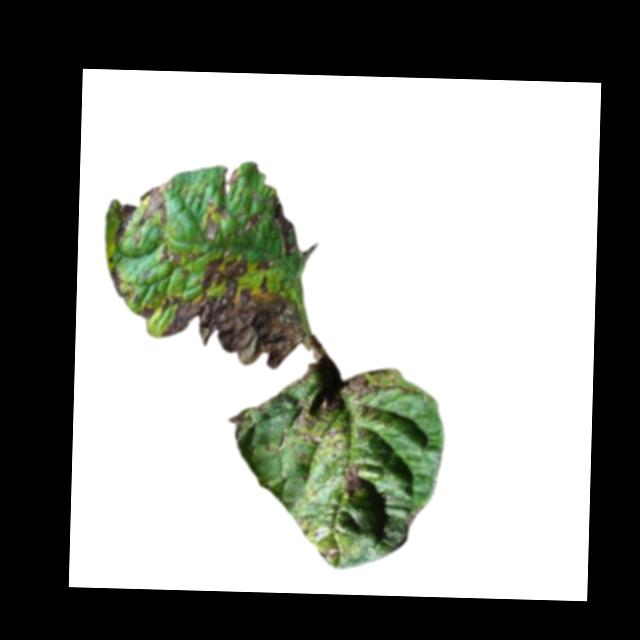Early_blight: (155, 249, 305, 371), (288, 369, 410, 452), (267, 193, 320, 257), (138, 182, 170, 232), (110, 203, 136, 246), (235, 208, 263, 238), (343, 463, 367, 498), (217, 165, 241, 197), (106, 255, 123, 300), (200, 212, 219, 243), (157, 244, 182, 265), (135, 306, 154, 320), (214, 205, 229, 220), (325, 547, 340, 562)
